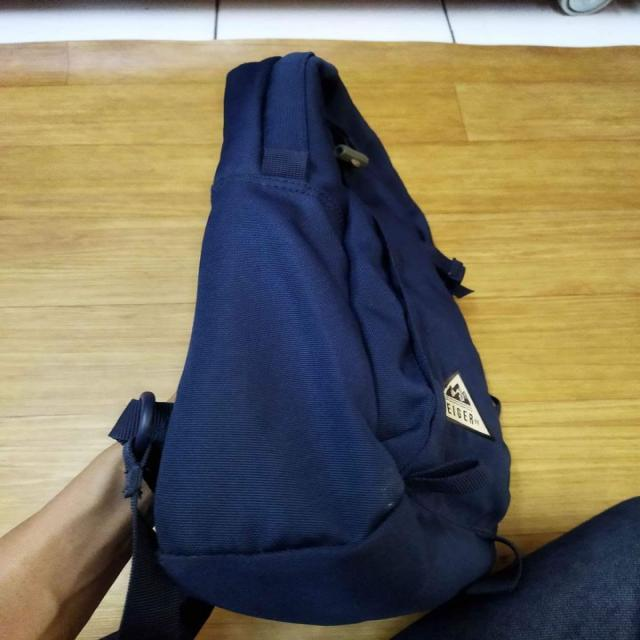bag: (160, 55, 513, 615)
